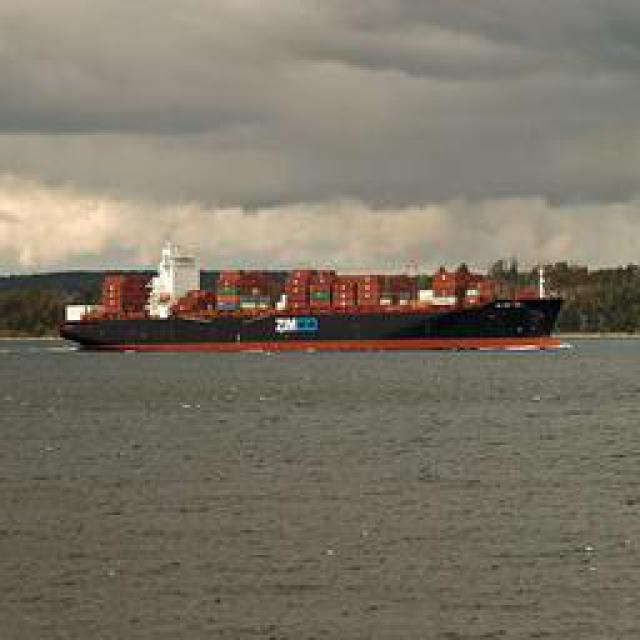Ship: (55, 255, 573, 358)
